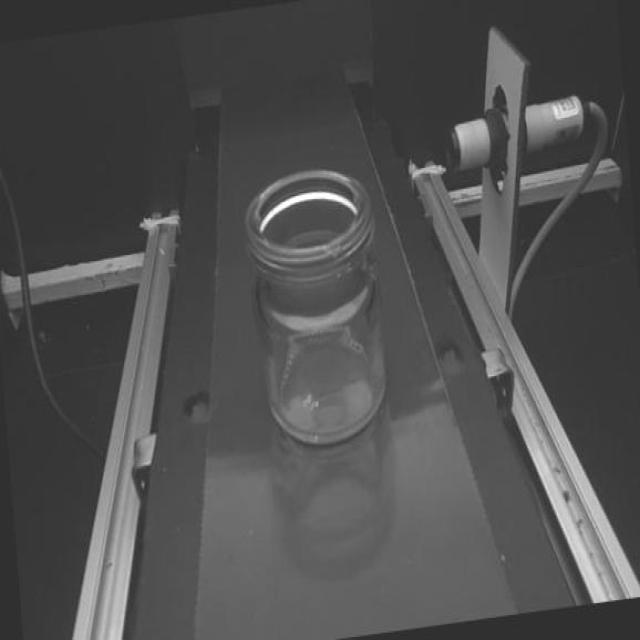defect: (321, 243, 342, 260), (336, 271, 341, 279)
glass: (240, 159, 394, 457)
